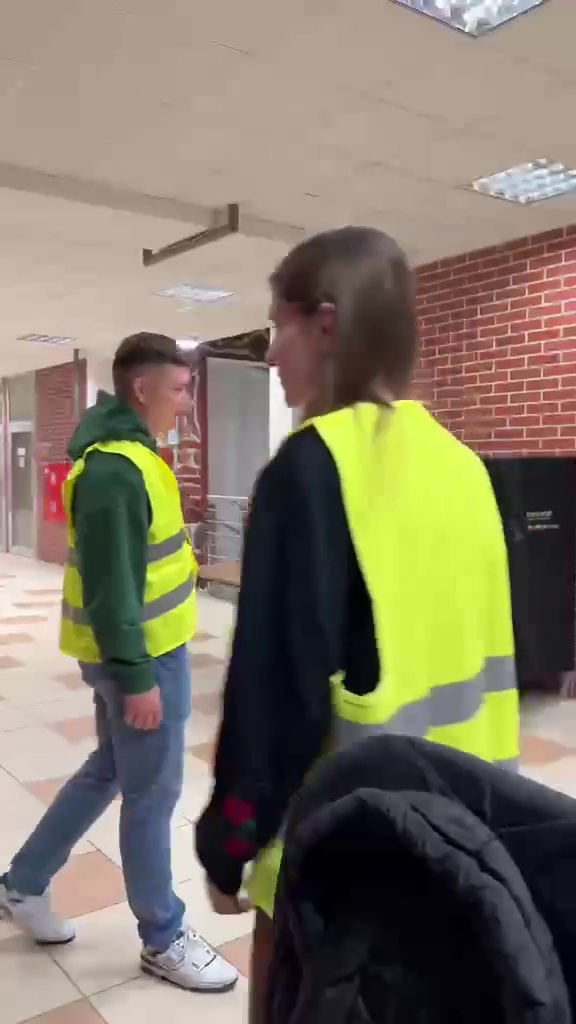vest: (247, 222, 556, 868), (17, 310, 236, 991)
